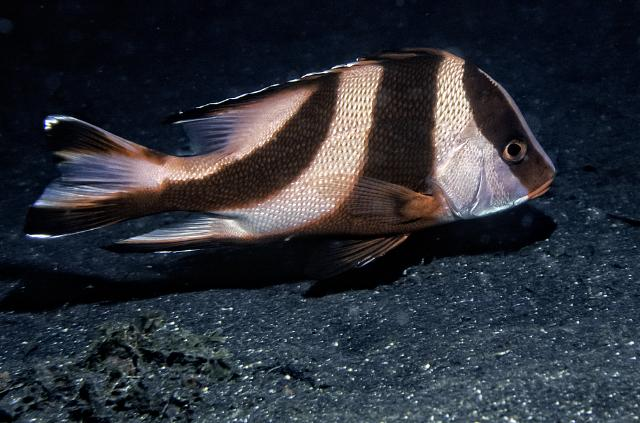Mulut: (490, 156, 580, 222)
Sirip Anal: (88, 202, 276, 272)
Sirip Dada: (281, 140, 449, 246)
Sirip Ekor: (9, 92, 162, 270)
Sirip Perut: (272, 219, 426, 299)
Sirip Punggung: (157, 32, 469, 154)
